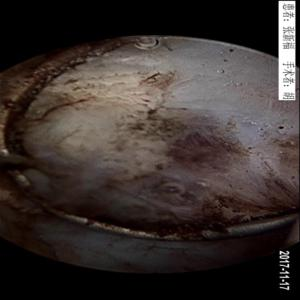film: (82, 102, 293, 221)
